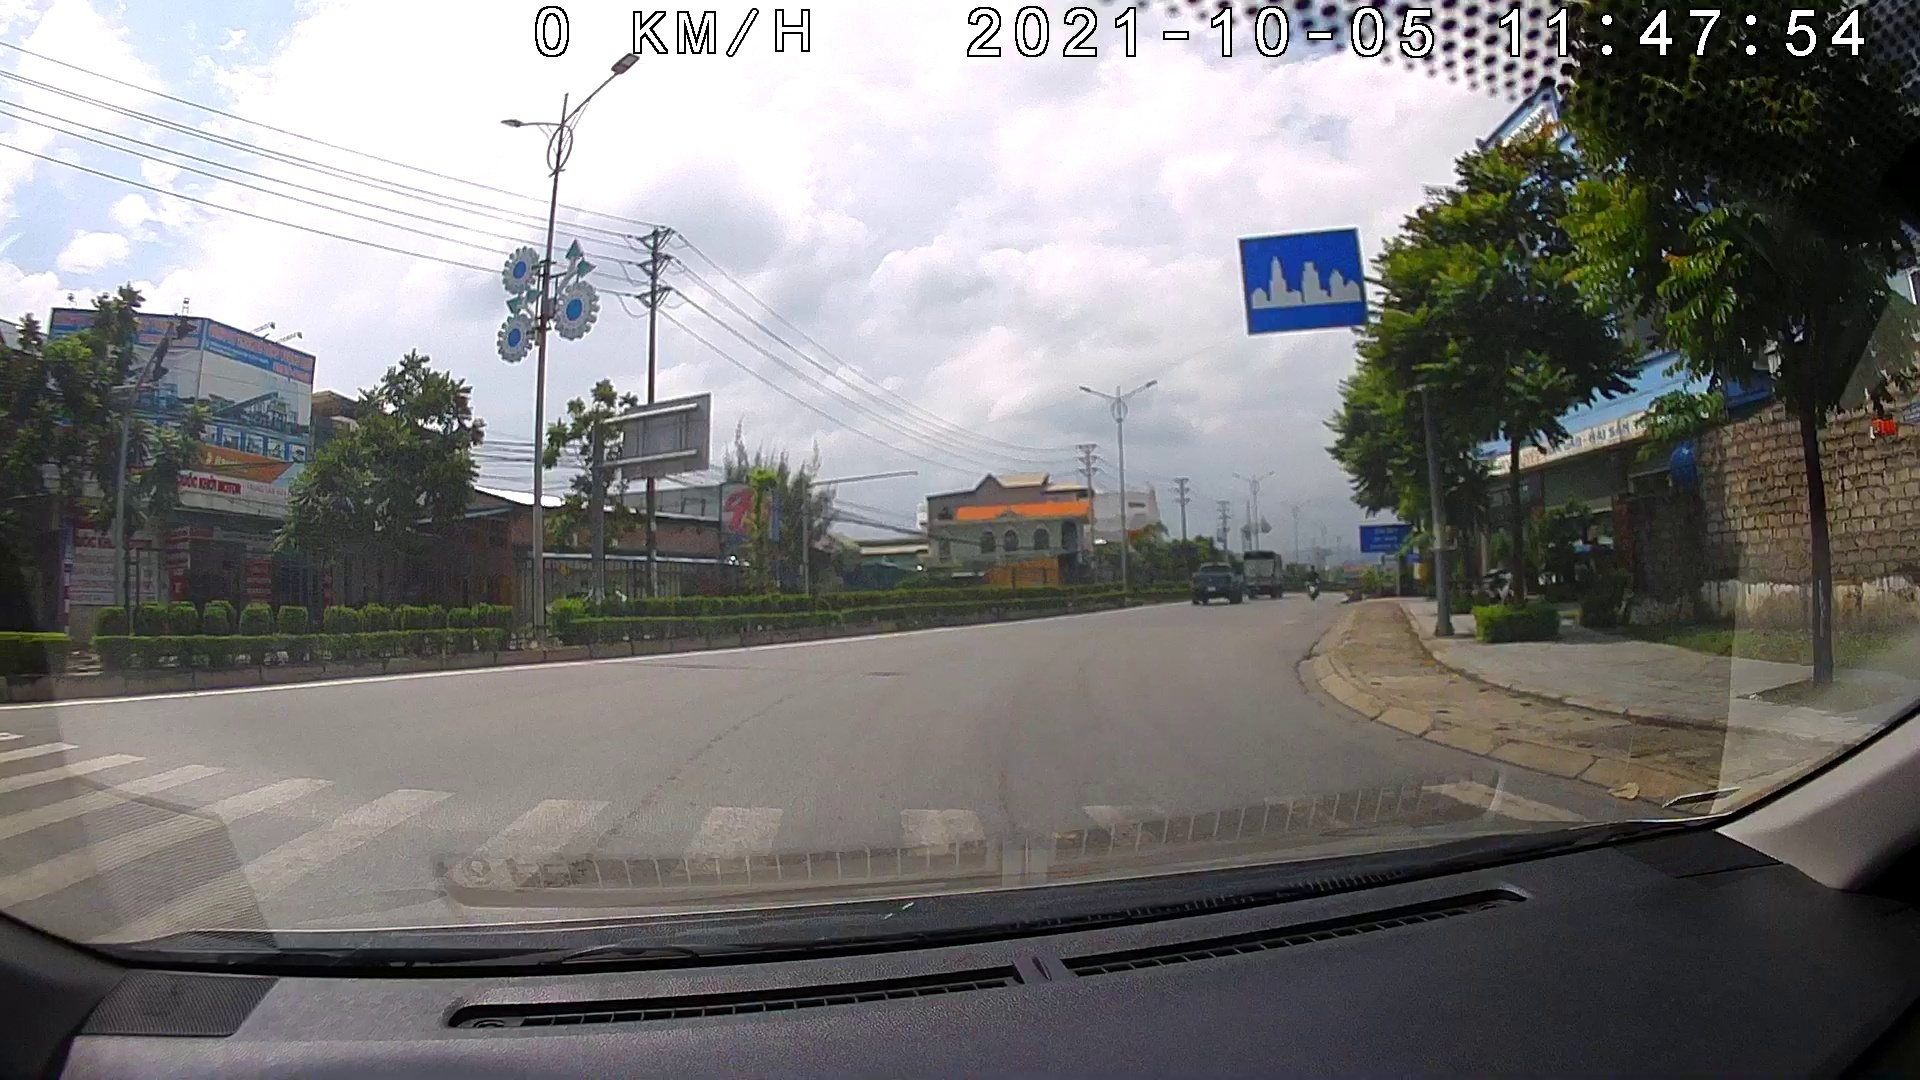Bien khac: (1238, 227, 1365, 339)
